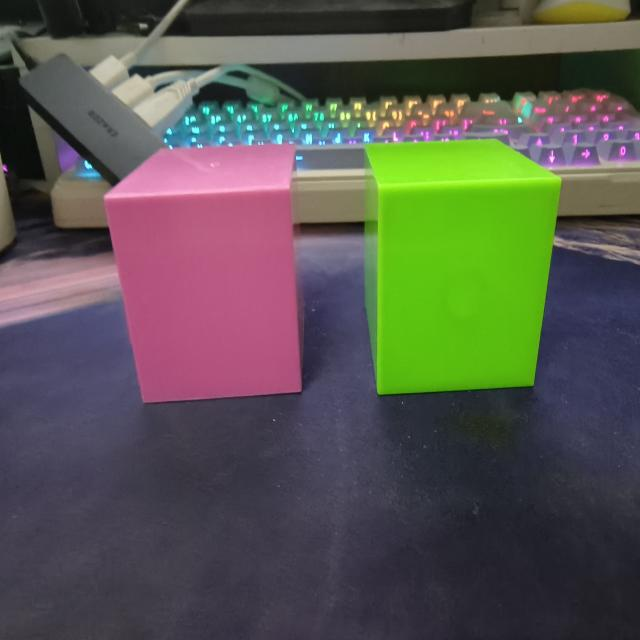green: (364, 141, 562, 399)
pink: (102, 145, 304, 407)
